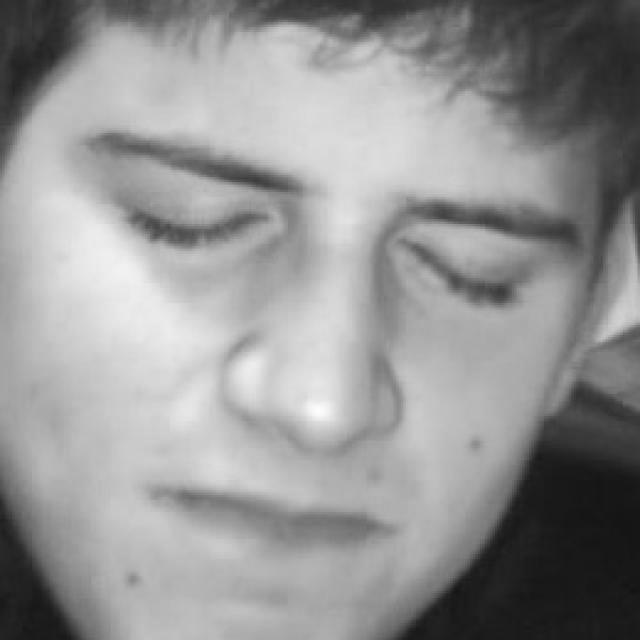real: (35, 10, 569, 628), (97, 116, 556, 324)
